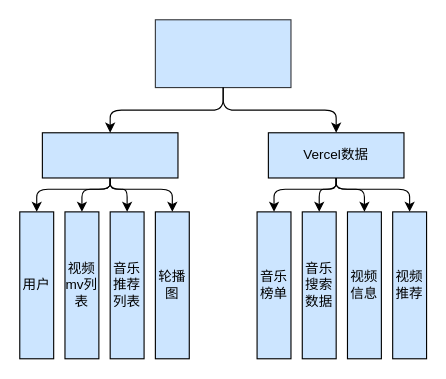
Image size: 446x379. Some labels were removed from this diagram. Each missing label, with the centre of its shape:
EaseMusic: the point at 222,53
本地MySql数据: the point at 109,155
